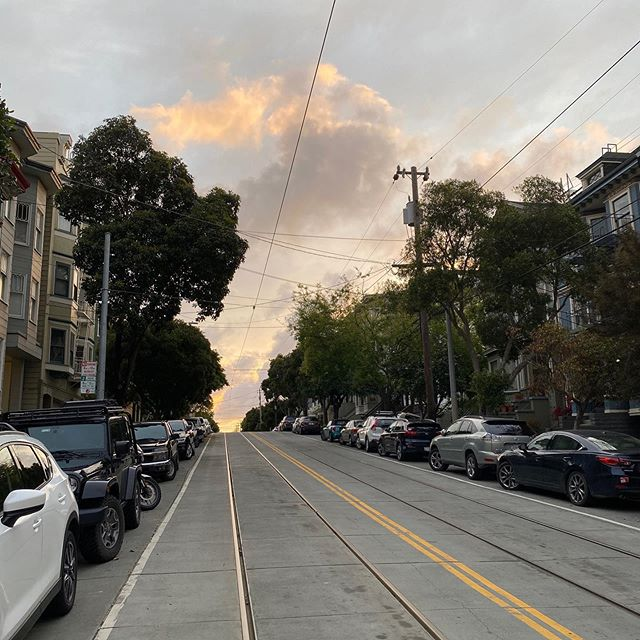building: (1, 134, 104, 420)
car: (3, 398, 152, 552), (498, 418, 640, 514), (429, 410, 528, 476), (382, 413, 447, 460)
sky: (7, 3, 640, 232)
street: (90, 410, 640, 640)
tree: (89, 133, 243, 460), (394, 183, 570, 464), (287, 288, 380, 441), (570, 239, 640, 432)
